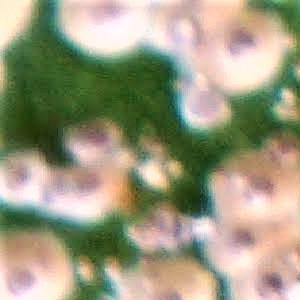Femea: (210, 9, 290, 88), (66, 0, 138, 48), (0, 243, 59, 299), (230, 157, 282, 209), (124, 268, 200, 299), (0, 152, 47, 198), (242, 263, 299, 299), (219, 223, 262, 270), (74, 170, 110, 210), (69, 122, 119, 150), (42, 158, 73, 203), (127, 219, 161, 251)
Linfa: (138, 160, 169, 199), (103, 253, 127, 296), (160, 153, 186, 184), (72, 253, 95, 287), (105, 142, 132, 168)
